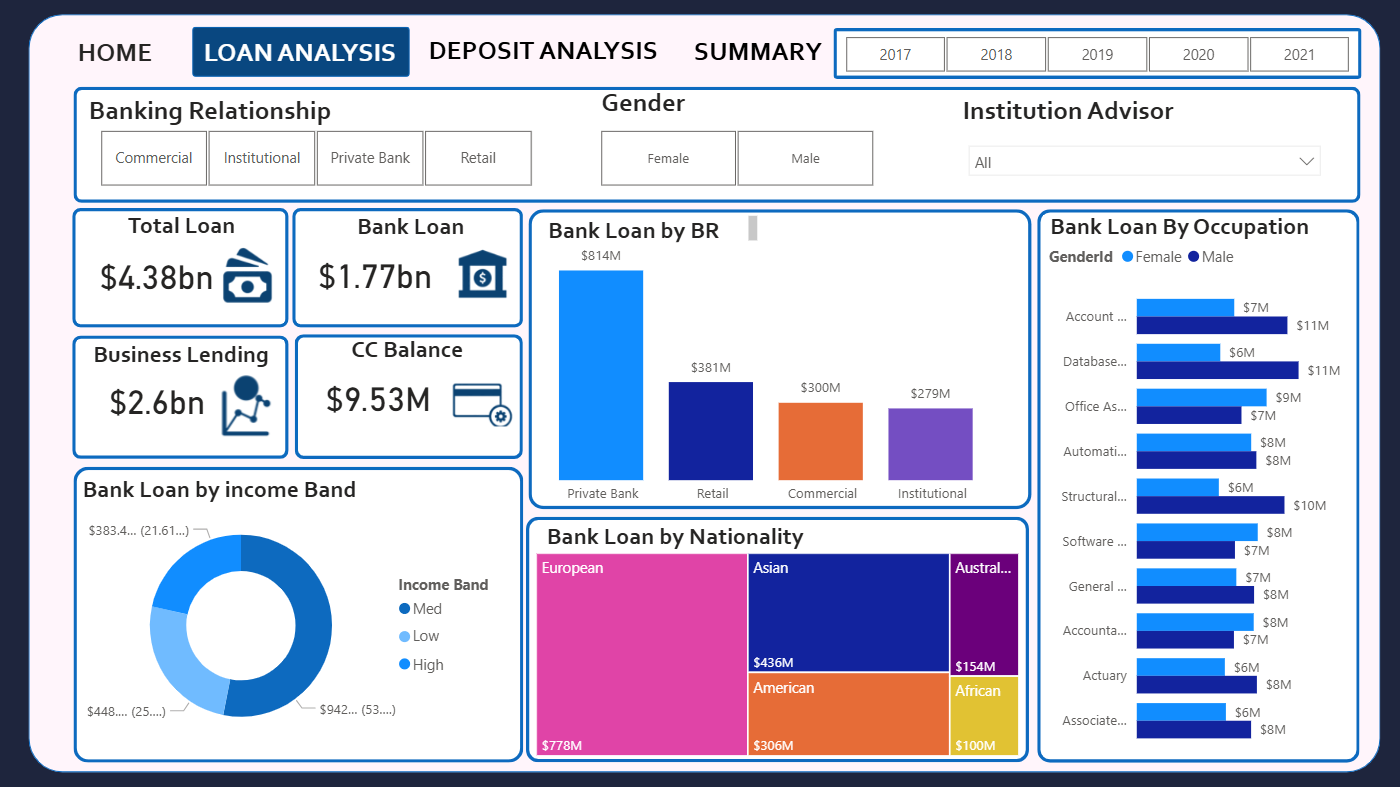

The dashboard page shown, as its layout file describes it:
{"tool":"powerbi","page":{"name":"Loan Analysis","canvas":[1280,720],"ordinal":1},"visuals":[{"type":"shape","box":[29.6,14.8,1229.1,689.3],"z":0},{"type":"shape","box":[761.2,27.5,480,46.2],"z":1000},{"type":"shape","box":[70,81.1,1170,105.6],"z":2000},{"type":"shape","box":[70,425.9,409,269],"z":5000},{"type":"shape","box":[947.1,191.8,293.2,503.1],"z":6000},{"type":"textbox","box":[938.6,189.4,275.1,44.6],"z":11000},{"type":"textbox","box":[386.2,27.5,222.5,45],"z":12000},{"type":"shape","box":[178.9,26.7,197.8,45.6],"z":13000},{"type":"textbox","box":[184,29,187,44],"z":14000},{"type":"textbox","box":[608.8,28.8,167.5,46.2],"z":15000},{"type":"slicer","fields":{"Values":["Banking_Clients.Year"]},"box":[746.2,28.8,507.5,45],"z":16000},{"type":"textbox","box":[15,29,187,44],"z":17000},{"type":"shape","box":[483.8,191.8,457.2,272.7],"z":18000},{"type":"shape","box":[481.4,471.7,457.2,223.2],"z":21000},{"type":"textbox","box":[470.5,471.7,294.4,45.8],"z":22000},{"type":"textbox","box":[48.3,428.3,311.3,43.4],"z":23000},{"type":"textbox","box":[470.5,193,226.8,33.8],"z":26000},{"type":"actionButton","box":[58.8,27.5,100,45],"z":27000},{"type":"actionButton","box":[390,26.2,213.8,40],"z":28000},{"type":"actionButton","box":[627.5,33.8,130,40],"z":29000},{"type":"donutChart","fields":{"Category":["Banking_Clients.Income Band"],"Y":["Sum(Banking_Clients.Bank Loans)"]},"box":[74.8,446.4,395.7,248.5],"z":34000},{"type":"columnChart","fields":{"Y":["Sum(Banking_Clients.Bank Loans)"],"Category":["Banking_Clients.BRId"]},"box":[466.9,207.5,469.3,260.6],"z":35000},{"type":"treemap","fields":{"Group":["Banking_Clients.Nationality"],"Values":["Sum(Banking_Clients.Bank Loans)"]},"box":[486.2,499.5,448.8,194.2],"z":36000},{"type":"clusteredBarChart","fields":{"Category":["Banking_Clients.Occupation"],"Y":["Sum(Banking_Clients.Bank Loans)"],"Series":["Banking_Clients.GenderId"]},"box":[951.9,214.7,289.5,480.2],"z":37000},{"type":"textbox","box":[80,81.2,273.8,42.5],"z":38000},{"type":"textbox","box":[545,75,273.8,42.5],"z":39000},{"type":"textbox","box":[873.8,81.2,316.2,42.5],"z":40000},{"type":"slicer","fields":{"Values":["Banking_Clients.IAId"]},"box":[873.8,123.8,340,52.5],"z":41000},{"type":"slicer","fields":{"Values":["Banking_Clients.GenderId"]},"box":[523.8,113.8,297.5,63.8],"z":42000},{"type":"shape","box":[68.8,306.4,196.6,112.2],"z":42500},{"type":"shape","box":[271.4,305.2,207.5,113.4],"z":42750},{"type":"shape","box":[68.8,190.6,196.6,108.6],"z":42875},{"type":"shape","box":[269,190.6,209.9,108.6],"z":42937},{"type":"slicer","fields":{"Values":["Banking_Clients.BRId"]},"box":[68.8,113.8,441.2,63.8],"z":43000},{"type":"textbox","box":[311.3,189.4,131.5,45.8],"z":44000},{"type":"textbox","box":[98.9,188.2,139.9,43.4],"z":44500},{"type":"textbox","box":[296.8,301.6,154.4,44.6],"z":45000},{"type":"textbox","box":[48.3,305.2,241.3,44.6],"z":45500},{"type":"card","fields":{"Values":["Banking_Clients.Total Loan"]},"box":[85.7,231.6,121.9,41],"z":46000},{"type":"card","fields":{"Values":["Sum(Banking_Clients.Business Lending)"]},"box":[59.1,342.6,174.9,45.8],"z":46500},{"type":"card","fields":{"Values":["Sum(Banking_Clients.Bank Loans)"]},"box":[277.5,228,135.1,44.6],"z":47000},{"type":"card","fields":{"Values":["Sum(Banking_Clients.Credit Card Balance)"]},"box":[283.5,340.2,129.1,45.8],"z":47001},{"type":"image","box":[407.8,211.1,67.6,76],"z":47002},{"type":"image","box":[407.8,337.8,67.6,60.3],"z":47003},{"type":"image","box":[191.8,336.6,65.1,72.4],"z":47004},{"type":"image","box":[191.8,217.2,67.6,70],"z":47005}]}

Visuals, with their boxes in screenshot pixels (x1, y1, x2, y2), scaled from the page's 1280x720 canvas onto the 1400x787 screenshot:
shape: (32,16,1377,770)
shape: (833,30,1358,81)
shape: (77,89,1356,204)
shape: (77,466,524,760)
shape: (1036,210,1357,760)
textbox: (1027,207,1327,256)
textbox: (422,30,666,79)
shape: (196,29,412,79)
textbox: (201,32,406,80)
textbox: (666,31,849,82)
slicer - Banking_Clients.Year: (816,31,1371,81)
textbox: (16,32,221,80)
shape: (529,210,1029,508)
shape: (527,516,1027,760)
textbox: (515,516,837,566)
textbox: (53,468,393,516)
textbox: (515,211,763,248)
actionButton: (64,30,174,79)
actionButton: (427,29,660,72)
actionButton: (686,37,829,81)
donutChart - Banking_Clients.Income Band x Sum(Banking_Clients.Bank Loans): (82,488,515,760)
columnChart - Sum(Banking_Clients.Bank Loans) x Banking_Clients.BRId: (511,227,1024,512)
treemap - Banking_Clients.Nationality x Sum(Banking_Clients.Bank Loans): (532,546,1023,758)
clusteredBarChart - Banking_Clients.Occupation x Sum(Banking_Clients.Bank Loans): (1041,235,1358,760)
textbox: (88,89,387,135)
textbox: (596,82,896,128)
textbox: (956,89,1302,135)
slicer - Banking_Clients.IAId: (956,135,1328,193)
slicer - Banking_Clients.GenderId: (573,124,898,194)
shape: (75,335,290,458)
shape: (297,334,524,458)
shape: (75,208,290,327)
shape: (294,208,524,327)
slicer - Banking_Clients.BRId: (75,124,558,194)
textbox: (340,207,484,257)
textbox: (108,206,261,253)
textbox: (325,330,494,378)
textbox: (53,334,317,382)
card - Banking_Clients.Total Loan: (94,253,227,298)
card - Sum(Banking_Clients.Business Lending): (65,374,256,425)
card - Sum(Banking_Clients.Bank Loans): (304,249,451,298)
card - Sum(Banking_Clients.Credit Card Balance): (310,372,451,422)
image: (446,231,520,314)
image: (446,369,520,435)
image: (210,368,281,447)
image: (210,237,284,314)
